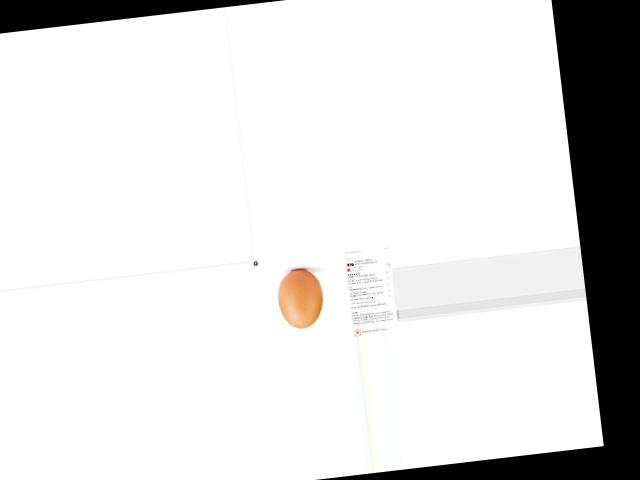egg: (275, 267, 326, 329)
